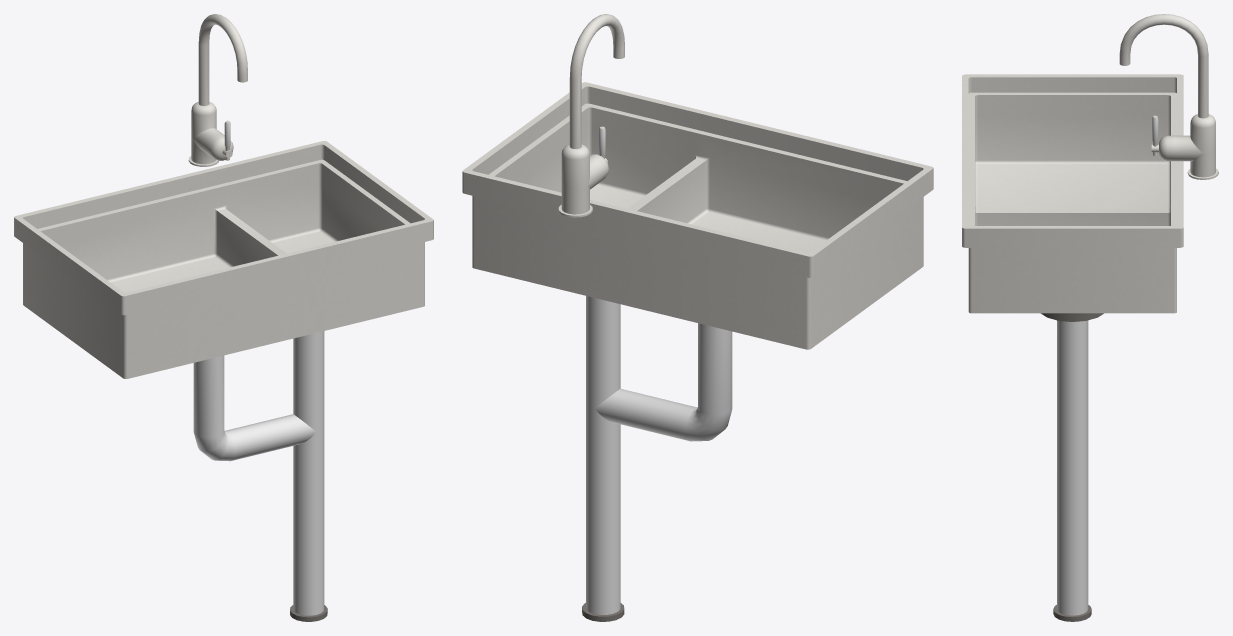
File: Sink04.fbx
The picture shows the model from 3 angles, left to right: view 1: azimuth 30°, elevation 25°; view 2: azimuth 150°, elevation 25°; view 3: azimuth 270°, elevation 25°; orthographic projection. The views are drawn at different scales.
Parts seen in each view (by area): view 1: Sink04, SinkFaucet04, SinkFaucet04Handle; view 2: Sink04, SinkFaucet04; view 3: Sink04, SinkFaucet04, SinkFaucet04Handle.
Boxes of the visible parts, box(x1,y1,x2,y2) form: Sink04: box(14, 141, 433, 621); SinkFaucet04: box(188, 14, 247, 166); SinkFaucet04Handle: box(207, 120, 233, 160); Sink04: box(462, 82, 933, 621); SinkFaucet04: box(558, 14, 624, 217); Sink04: box(962, 74, 1183, 621); SinkFaucet04: box(1119, 14, 1218, 179); SinkFaucet04Handle: box(1151, 115, 1174, 161).
Bounding box in the file's own units: 62.73 × 110 × 44.14.
